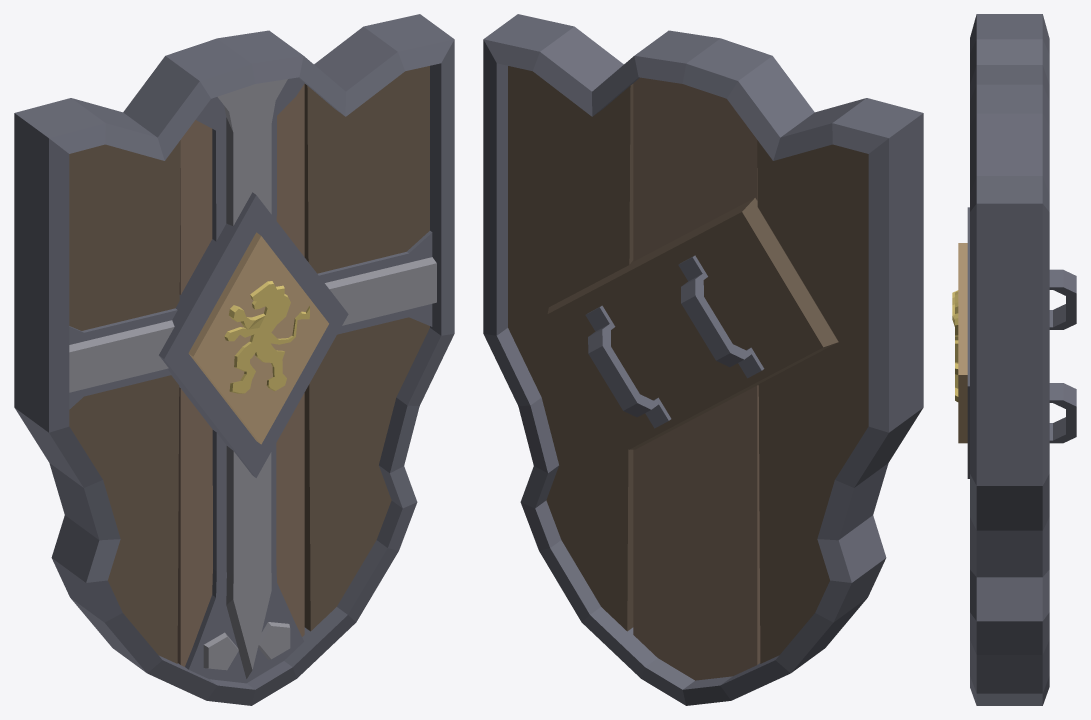
Rendered from shield_shield_18.glb.
3 views of the same model, side by side, from view 1: azimuth 30°, elevation 25°; view 2: azimuth 150°, elevation 25°; view 3: azimuth 270°, elevation 25° (orthographic). The views are drawn at different scales.
Visible parts, largest first — view 1: shield_18; view 2: shield_18; view 3: shield_18.
Part boxes in pixels (bbox=[...]): shield_18: bbox=[14, 14, 454, 705]; shield_18: bbox=[483, 14, 923, 705]; shield_18: bbox=[952, 14, 1076, 705].
Bounding box in the file's own units: 59.89 × 90.62 × 16.58.
Materials: 1 (1 with a texture image).
